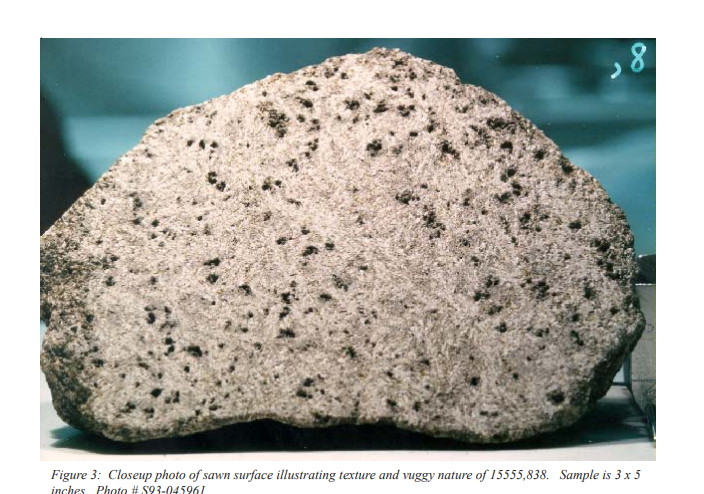Basalt: (44, 49, 642, 442)
